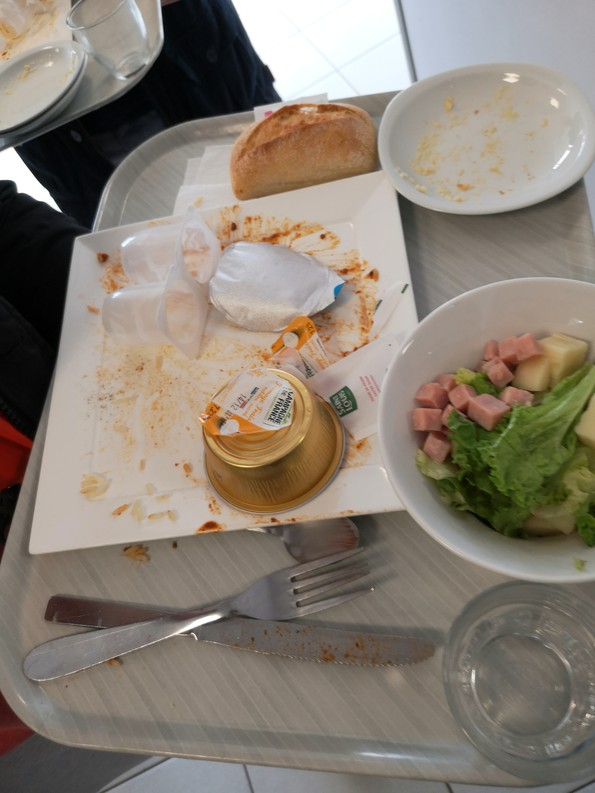cup: (436, 567, 595, 780)
cutlery: (27, 560, 472, 731)
orga: (431, 342, 595, 529), (221, 103, 377, 187)
trash: (199, 325, 383, 508), (103, 229, 212, 349), (218, 238, 343, 334)
